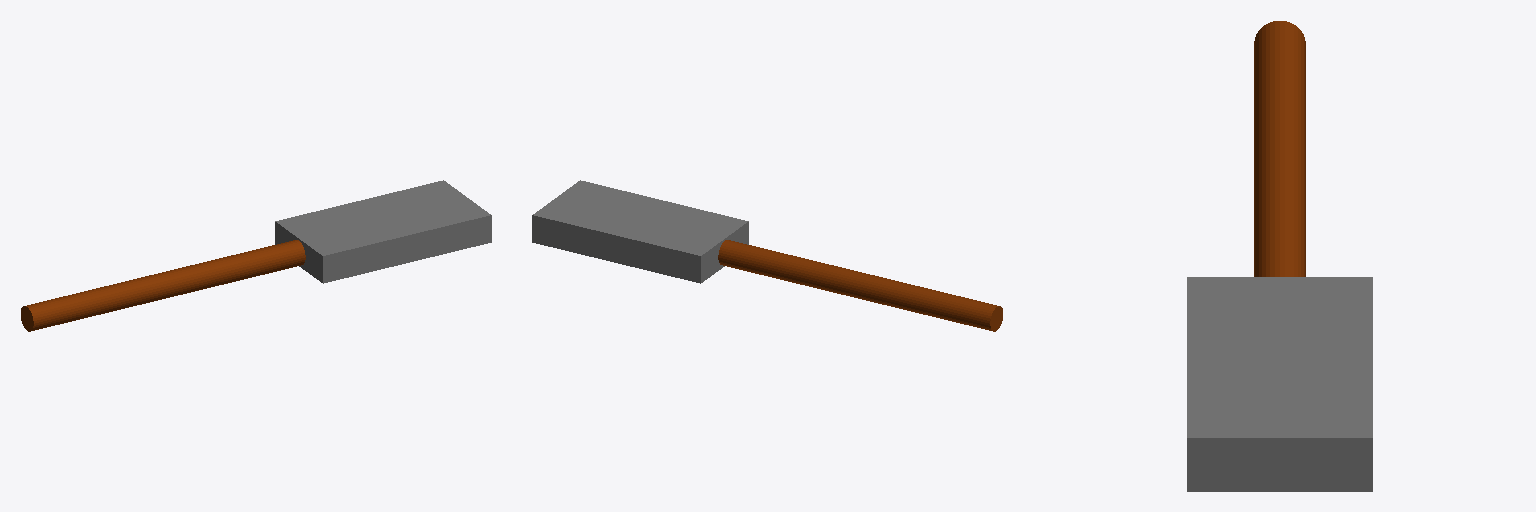
robot.urdf — handle_head:
<?xml version="1.0"?>
<robot name="handle_head">

  <link name="handle_head">
    <!-- Handle -->
    <visual>
              <origin xyz="0 0 0" rpy="0 -1.5707963267948966 0"/>
        <geometry>
          <cylinder length="0.16002372415183325" radius="0.0067287921154587154"/>
        </geometry>
        
      <material name="brown">
        <color rgba="0.55 0.27 0.07 1.0"/>
      </material>
    </visual>
    <collision>
              <origin xyz="0 0 0" rpy="0 -1.5707963267948966 0"/>
        <geometry>
          <cylinder length="0.16002372415183325" radius="0.0067287921154587154"/>
        </geometry>
        
    </collision>

    <!-- Head -->
    <visual>
              <origin xyz="0.12960484933791128 0 0" rpy="0 0 0"/>
        <geometry>
          <box size="0.09918597452398929 0.04861558548326439 0.015454887818065527"/>
        </geometry>
        
      <material name="gray">
        <color rgba="0.5 0.5 0.5 1.0"/>
      </material>
    </visual>
    <collision>
              <origin xyz="0.12960484933791128 0 0" rpy="0 0 0"/>
        <geometry>
          <box size="0.09918597452398929 0.04861558548326439 0.015454887818065527"/>
        </geometry>
        
    </collision>

    <inertial>
      <origin xyz="0.0898694738946694 0 0" rpy="0 0 0"/>
      <mass value="0.04078505818218228"/>
      <inertia ixx="6.413068968879025e-06" iyy="0.00019932236760312515" izz="0.0002043295380949235" ixy="0" ixz="0" iyz="0"/>
    </inertial>
  </link>

</robot>

--- What the picture shows (computed from the rendered views, not written in the file) ---
Views: 3 orthographic renders of the robot side by side, from view 1: azimuth 30°, elevation 25°; view 2: azimuth 150°, elevation 25°; view 3: azimuth 270°, elevation 25°.
Robot: handle_head — 1 links, 0 joints (none); root link handle_head; default pose: every joint at zero.
Visible links, largest first — view 1: handle_head; view 2: handle_head; view 3: handle_head.
Link boxes in pixels (x1,y1,x2,y2): handle_head: (21,180,491,331); handle_head: (532,180,1002,331); handle_head: (1187,21,1372,491).
Size in the robot's own frame: 0.2592 by 0.0486 by 0.0155 metres.
Geometry: primitives only (box / cylinder / sphere), no mesh files.
